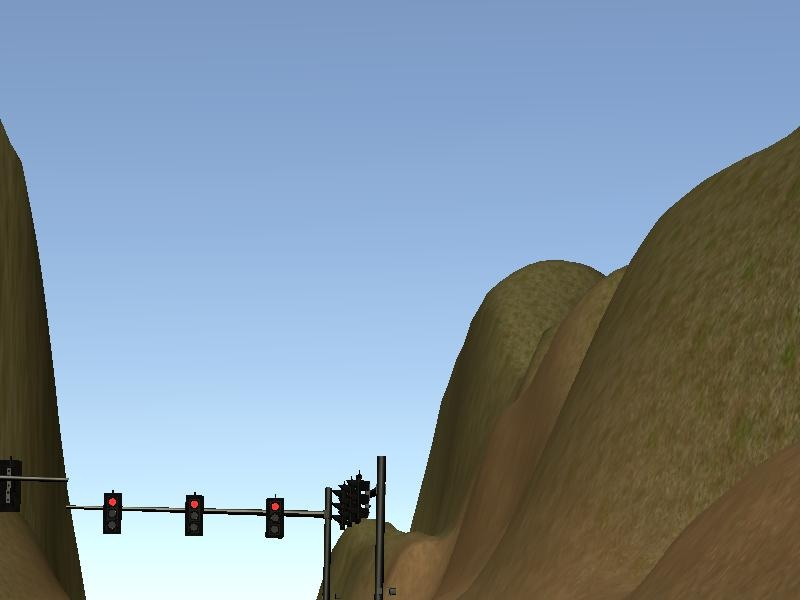RED: (102, 493, 123, 535), (183, 493, 204, 535), (265, 496, 286, 538)
